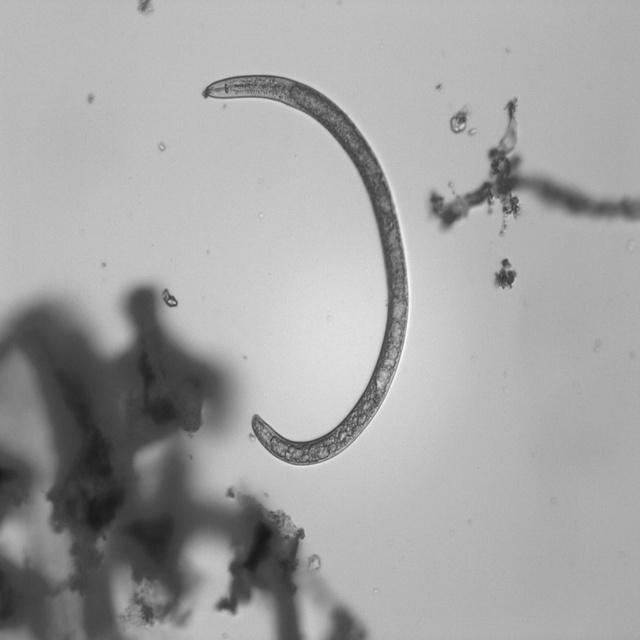Helicotylenchus: (195, 66, 428, 476)
